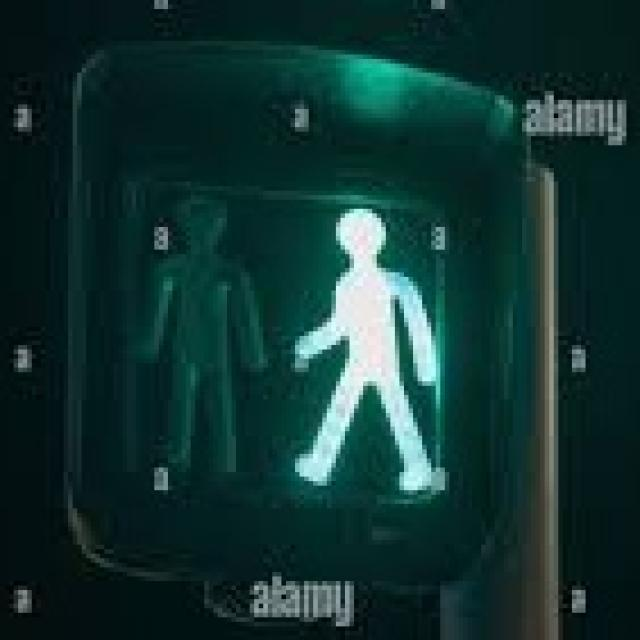geen-crossing: (258, 182, 458, 518)
